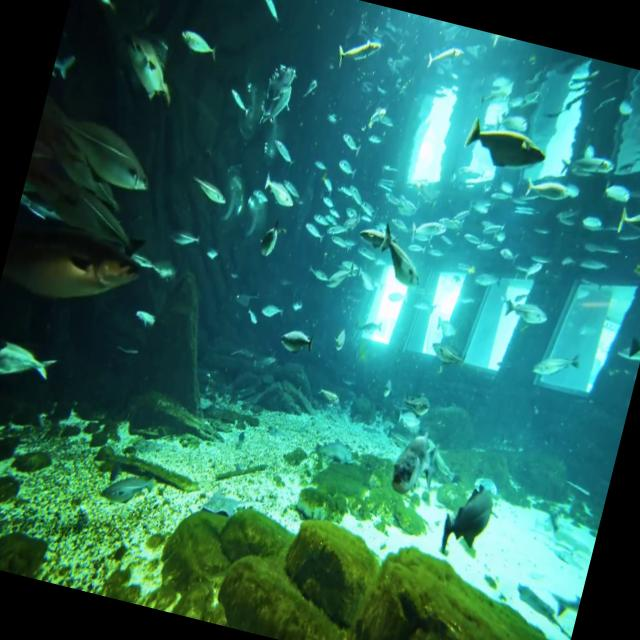fish: (0, 188, 164, 331), (34, 90, 177, 204), (104, 23, 198, 125), (429, 452, 505, 568), (459, 111, 556, 181), (372, 220, 438, 298), (328, 16, 397, 88), (522, 334, 590, 404), (162, 10, 230, 78), (275, 306, 326, 366), (185, 166, 240, 219), (498, 292, 561, 337), (609, 182, 640, 253), (253, 215, 290, 267), (71, 0, 133, 24)
